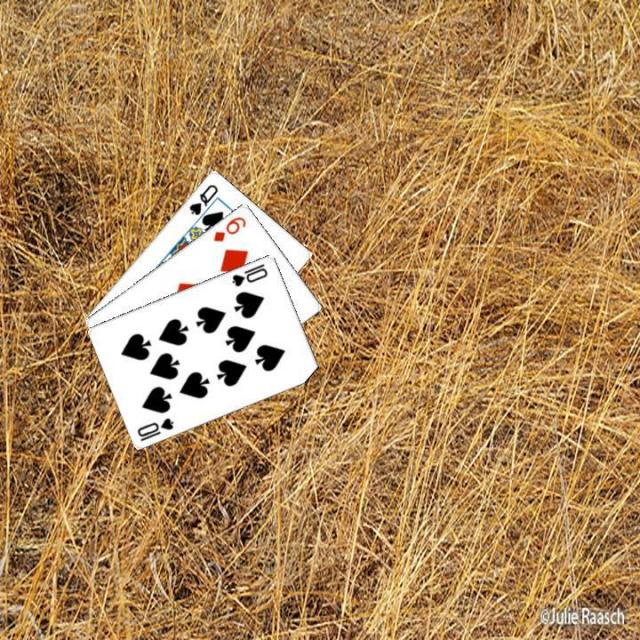10S: (133, 413, 176, 443), (228, 260, 270, 288)
6D: (210, 212, 248, 244)
QS: (185, 179, 219, 217)
